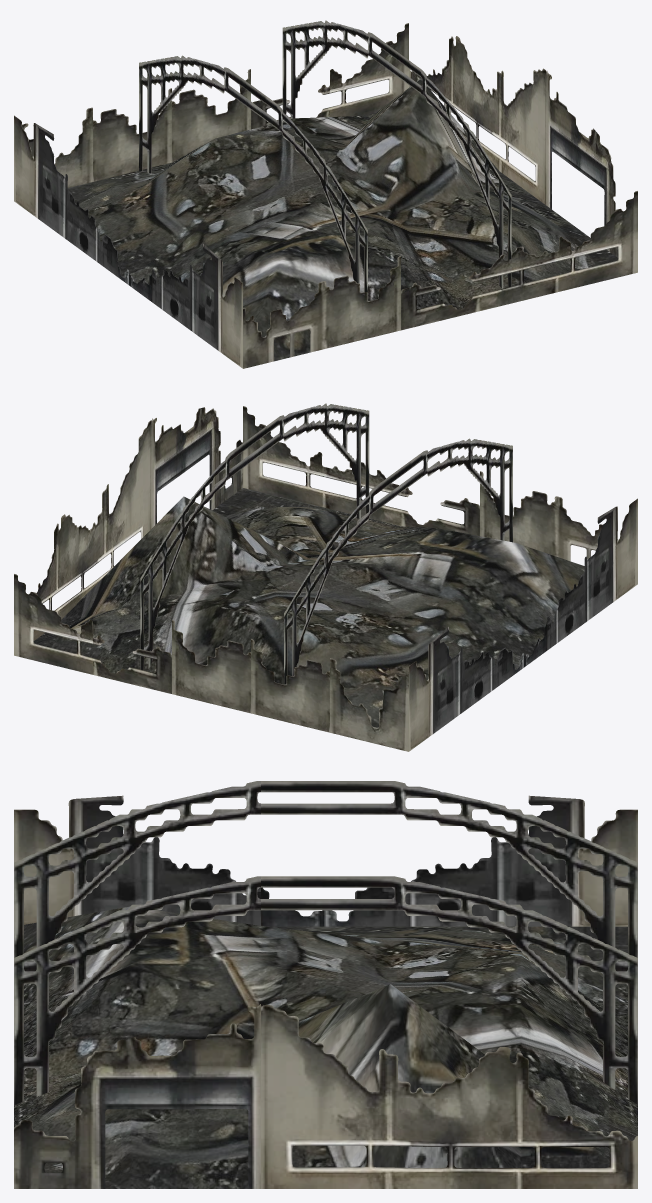
Rendered from hangar_dam_hdtex.glb.
The picture shows the model from 3 angles, top to bottom: view 1: azimuth 30°, elevation 25°; view 2: azimuth 150°, elevation 25°; view 3: azimuth 270°, elevation 25°; orthographic projection. The views are drawn at different scales.
Parts seen in each view (by area): view 1: HangarDam; view 2: HangarDam; view 3: HangarDam.
Boxes of the visible parts, bbox=[...] form: HangarDam: bbox=[14, 20, 637, 368]; HangarDam: bbox=[14, 403, 637, 751]; HangarDam: bbox=[14, 781, 637, 1188].
Size of the model in its own units: 38.2 by 15.58 by 38.4.
Materials: 2 (2 with a texture image).
